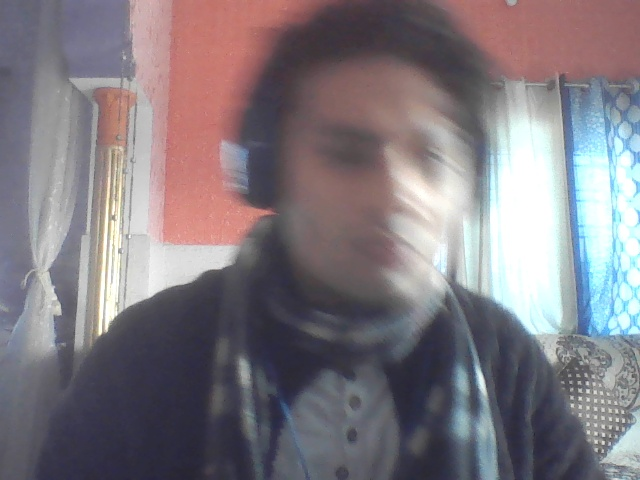real: (259, 0, 496, 336)
